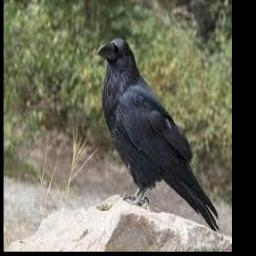Crow: (95, 37, 218, 231)
